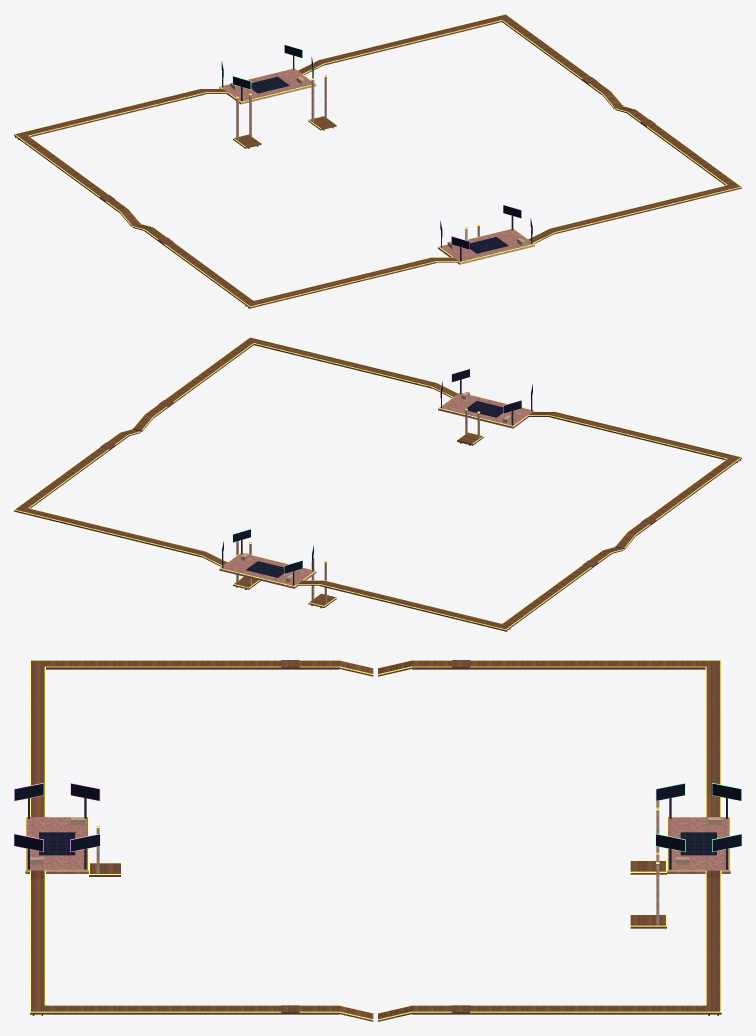
Rendered from skyreach_map_v7_add.glb.
3 views of the same model, one above another, from view 1: azimuth 30°, elevation 25°; view 2: azimuth 150°, elevation 25°; view 3: azimuth 270°, elevation 25° (orthographic). The views are drawn at different scales.
Parts seen in each view (by area): view 1: skyreach_map_v7_add; view 2: skyreach_map_v7_add; view 3: skyreach_map_v7_add.
Part boxes in pixels (x1,y1,x2,y2): skyreach_map_v7_add: (14,14,741,308); skyreach_map_v7_add: (14,337,741,631); skyreach_map_v7_add: (14,660,741,1021).
Size of the model in its own units: 183 by 20.87 by 160.
Materials: 12 (7 with a texture image).
